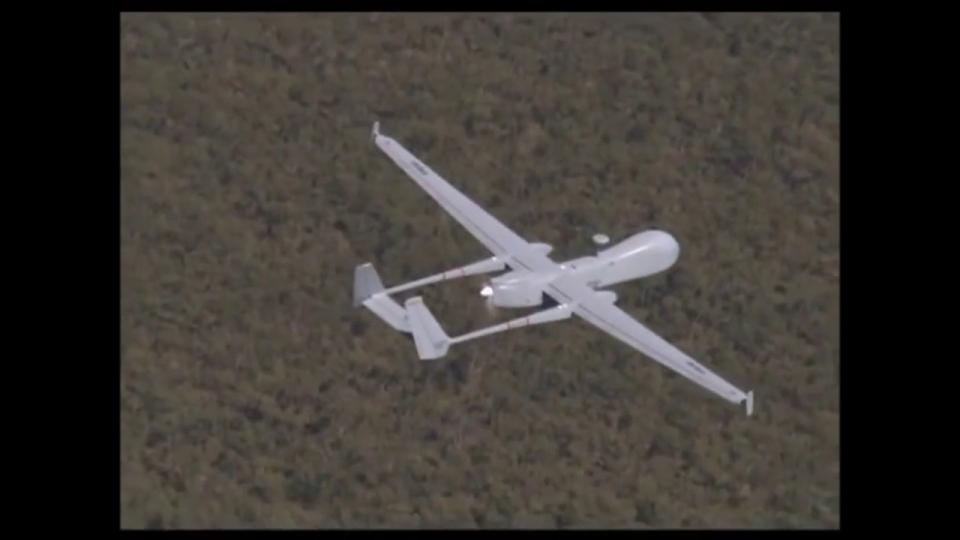military drone: (352, 121, 753, 415)
